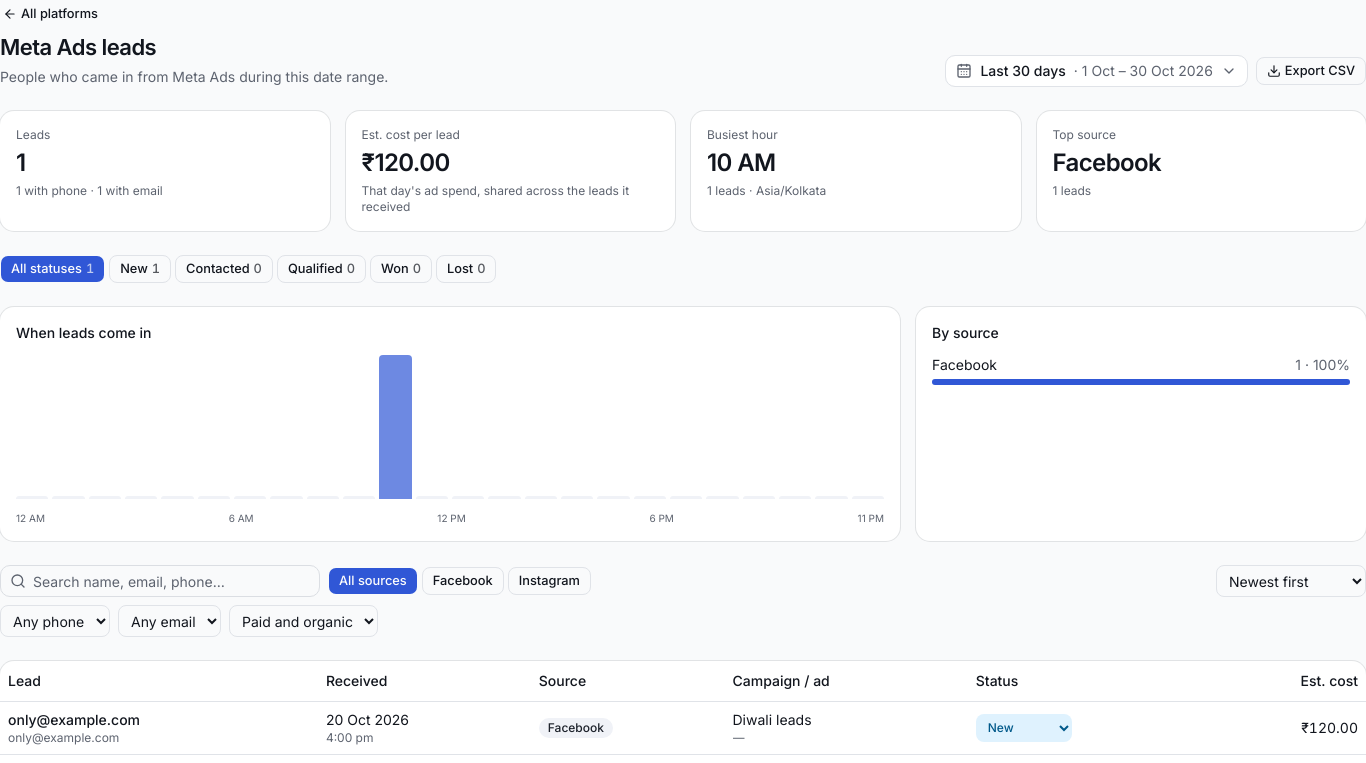
Scenario: Leads with missing details › shows — instead of blank lines, and titles the dialog with the lead's display name
The width and height of the screenshot is (1366, 763).
Expected: the cell "only@example.com only@example.com" is shown, [0, 701, 318, 754]
Expected: the text "—" is shown, [732, 730, 744, 745]
Click the 1st text "only@example.com" at (74, 719), box [8, 711, 140, 728]
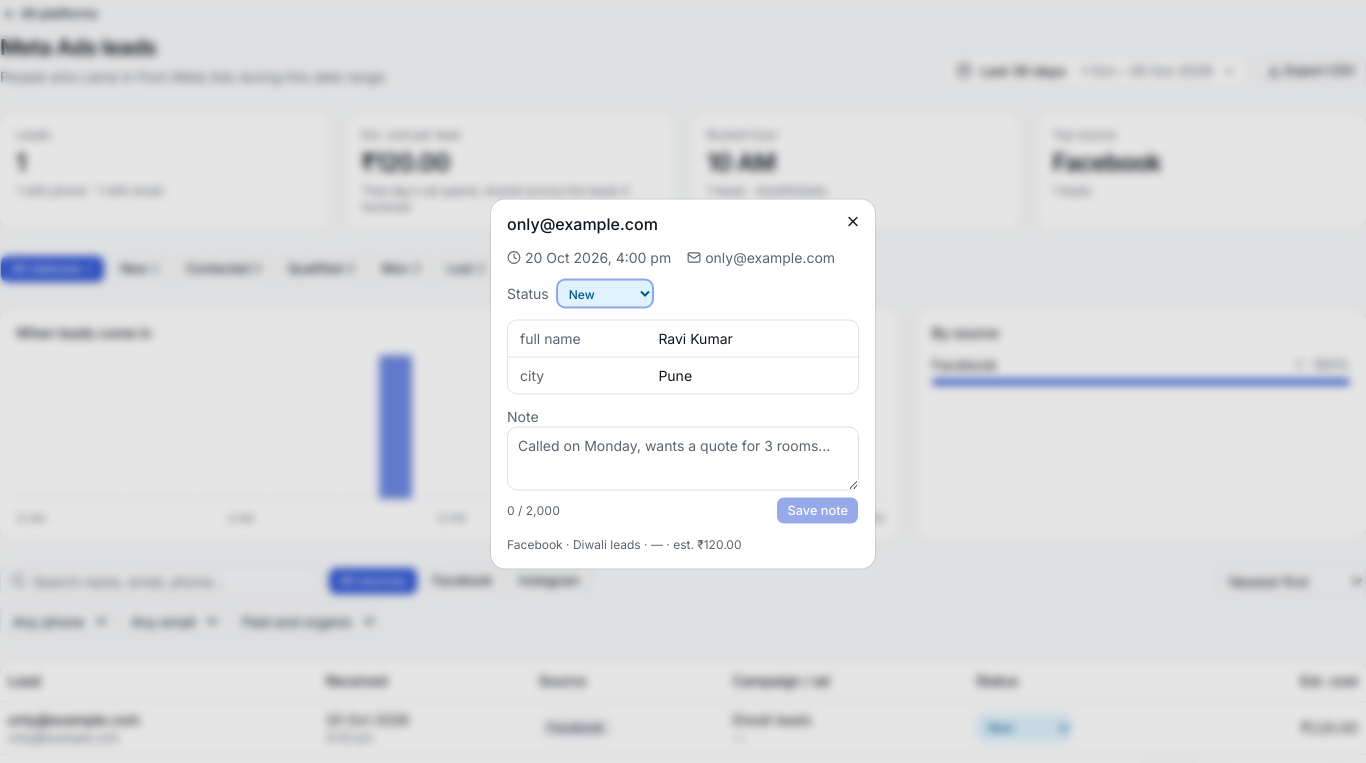
Result: the heading "only@example.com" is shown at [507, 214, 658, 234]
